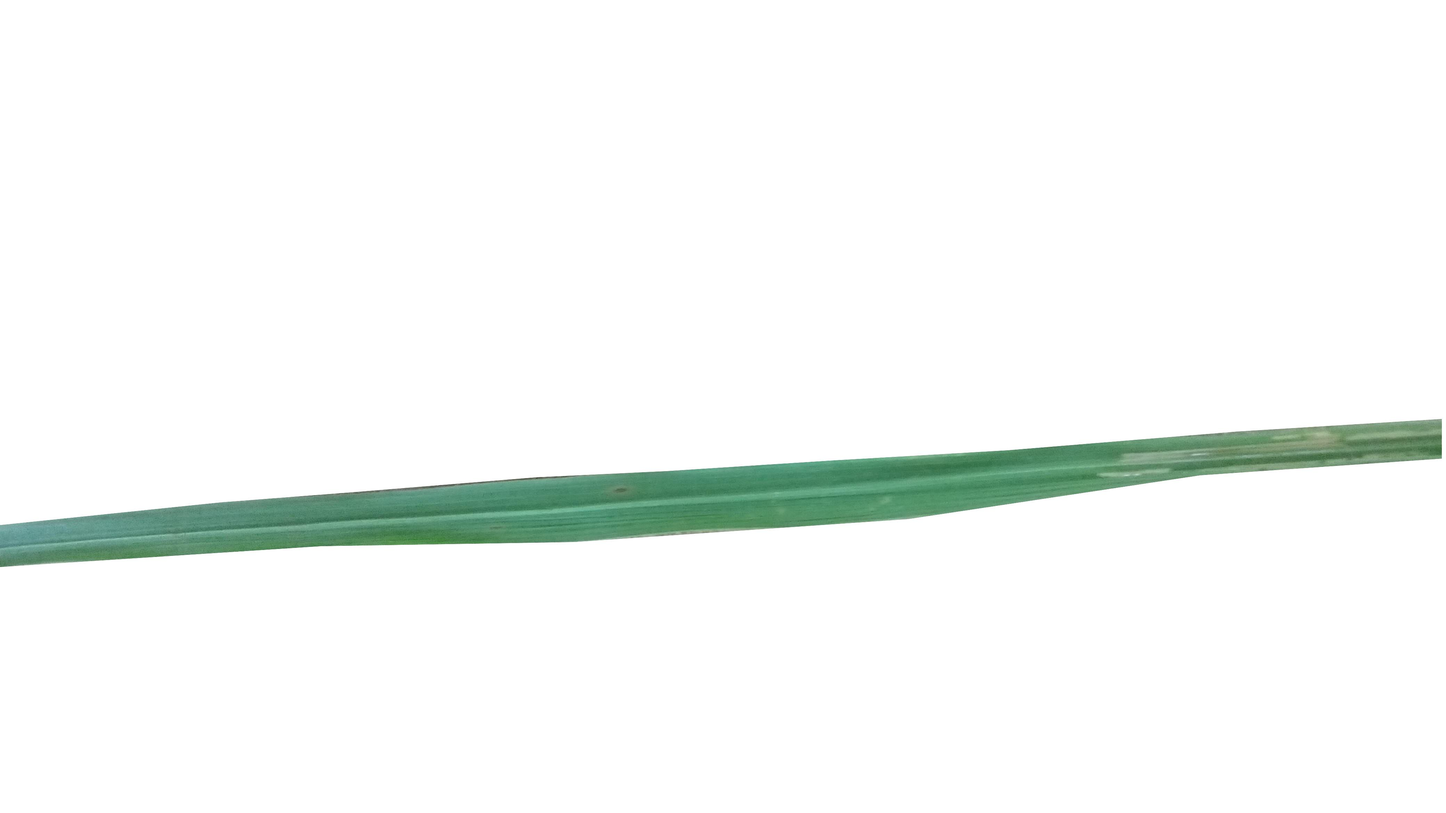Brown spot: (608, 482, 631, 499)
